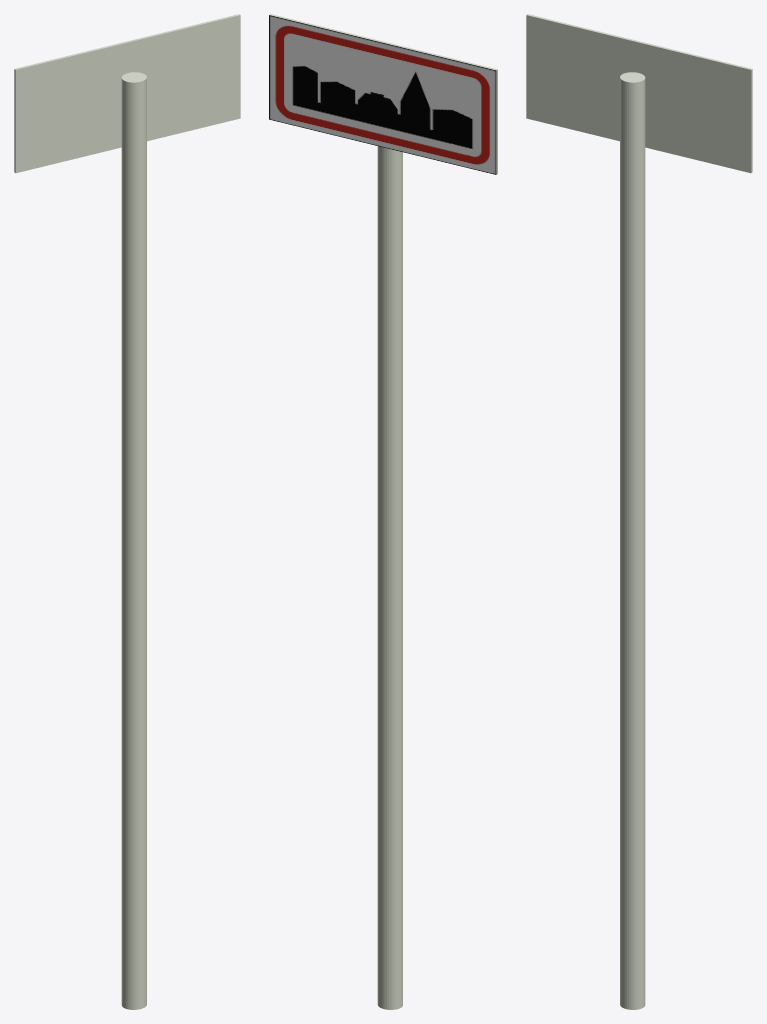
File: lakott_terulet.glb
3 views of the same model, side by side, from view 1: azimuth 30°, elevation 25°; view 2: azimuth 150°, elevation 25°; view 3: azimuth 330°, elevation 25° (orthographic).
Visible parts, largest first — view 1: lakott_terulet_tube, Cube; view 2: Cube, lakott_terulet_tube; view 3: lakott_terulet_tube, Cube.
Part boxes in pixels (x1,y1,x2,y2): lakott_terulet_tube: [121, 72, 146, 1009]; Cube: [14, 14, 240, 173]; Cube: [269, 14, 497, 174]; lakott_terulet_tube: [377, 146, 402, 1009]; lakott_terulet_tube: [620, 72, 645, 1009]; Cube: [526, 14, 752, 173].
Size of the model in its own units: 0.4406 by 1.79 by 0.0462.
3 materials, 1 textured.
